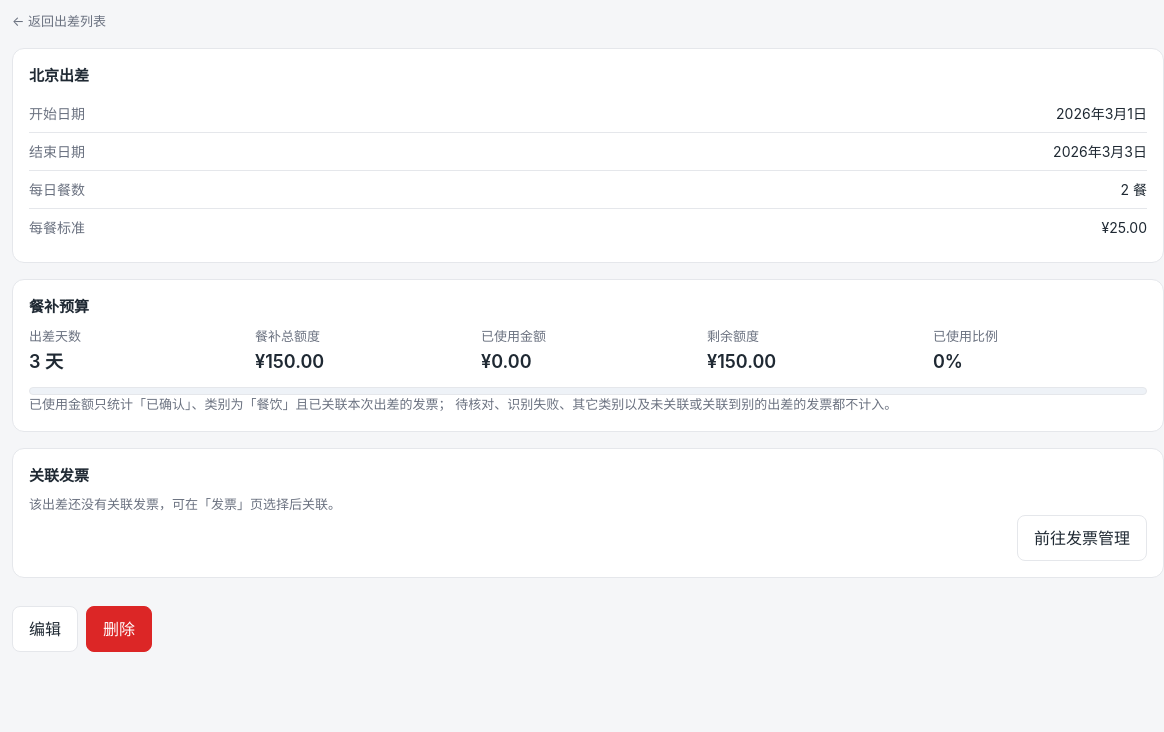
出差详情页的餐补统计 › 修改出差日期后预算与统计一起更新
Step 1. Click the button "编辑" → click(45, 628), box [12,606,78,652]
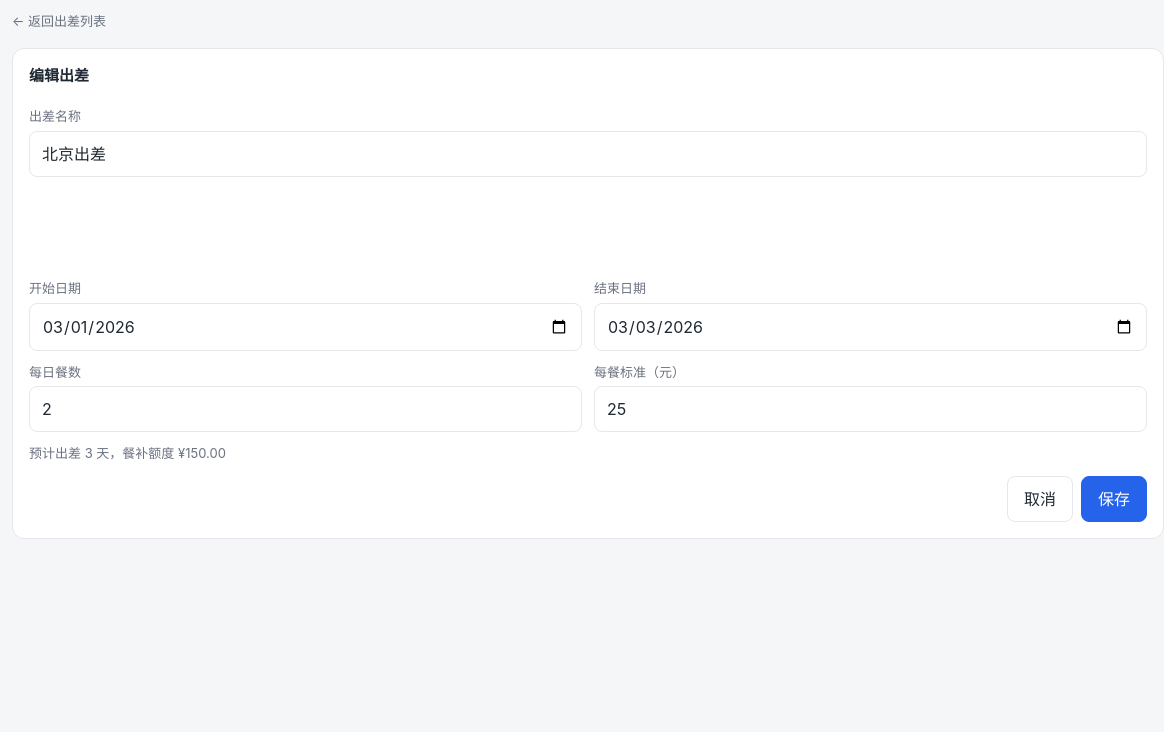
Expected: the heading "编辑出差" is shown, [29,66,89,84]
Step 2. Type "2026-03-05" into the date field labelled "结束日期" → (870, 326), box [594,302,1147,350]
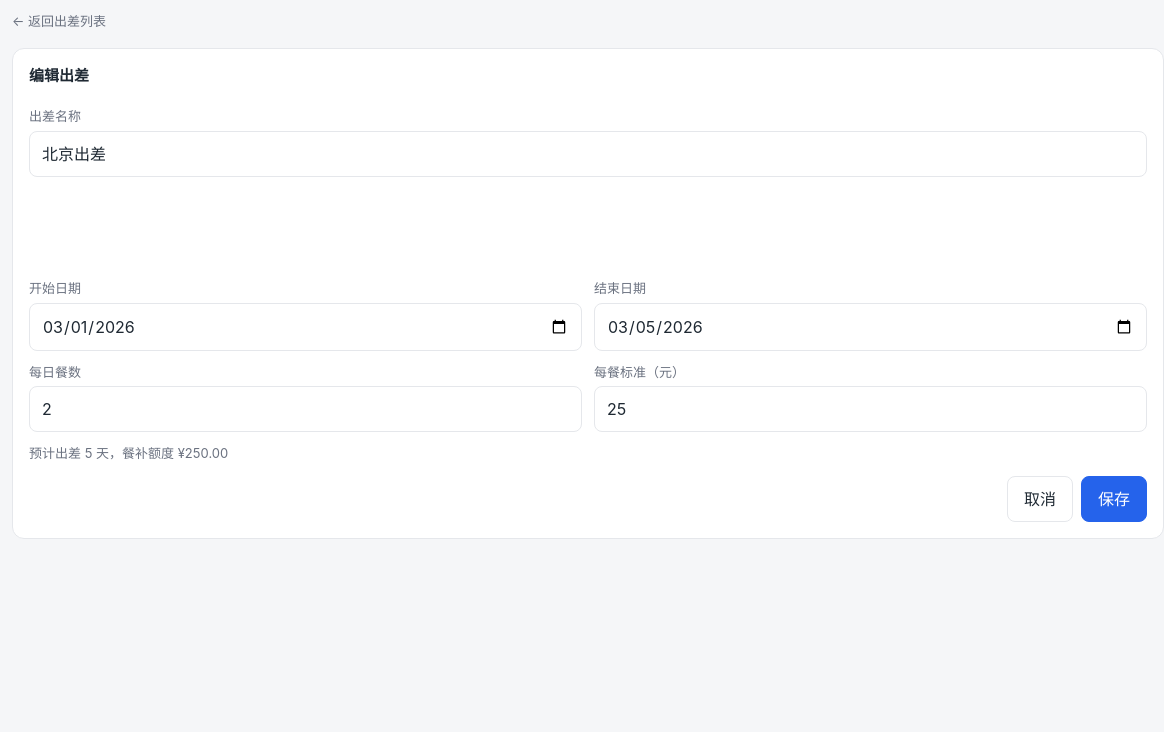
Step 3. Click the button "保存" → click(1114, 498), box [1081,476,1147,522]
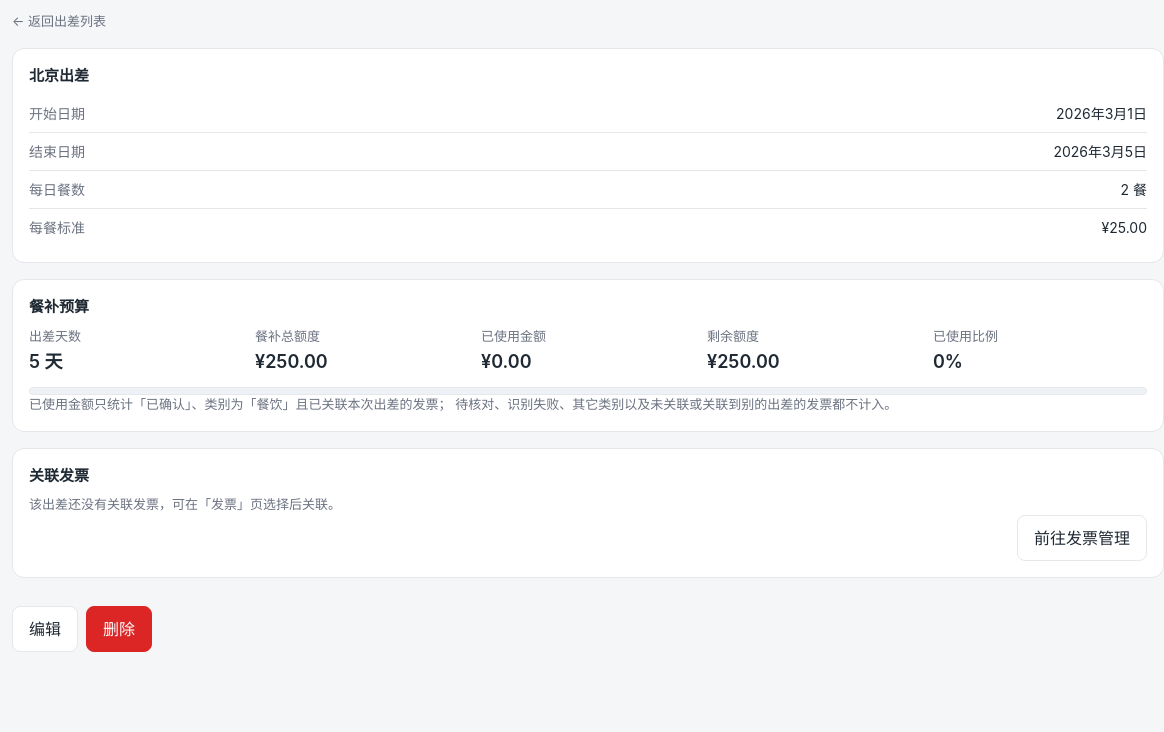
Expected: the heading "编辑出差" is gone
